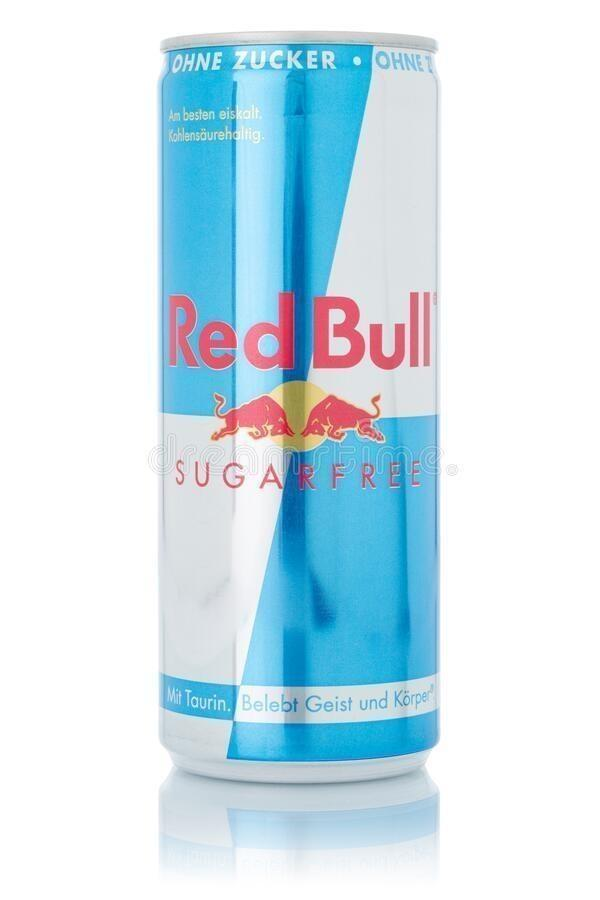tin can: (151, 17, 443, 787)
